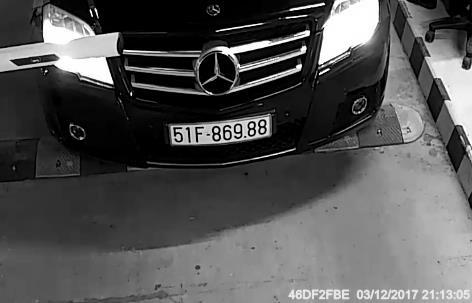License-plate: (155, 110, 280, 154)
